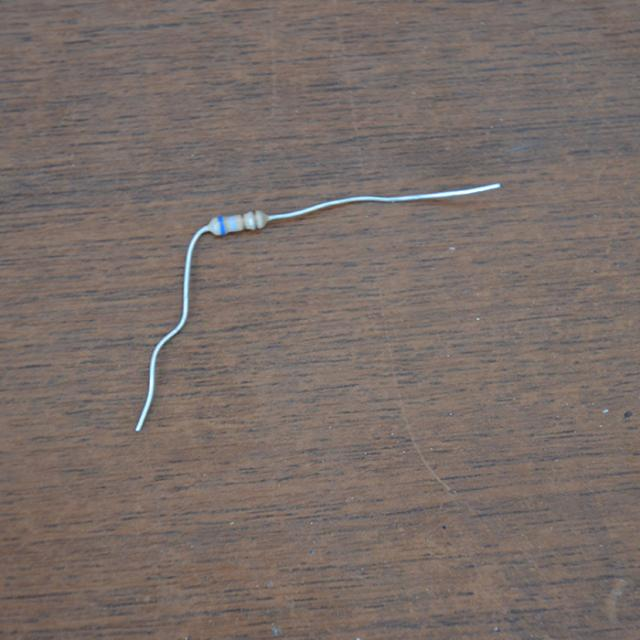blue: (219, 217, 225, 233)
gold: (240, 213, 247, 230), (252, 210, 258, 227)
resistor: (202, 193, 287, 244)
white: (229, 217, 236, 231)
